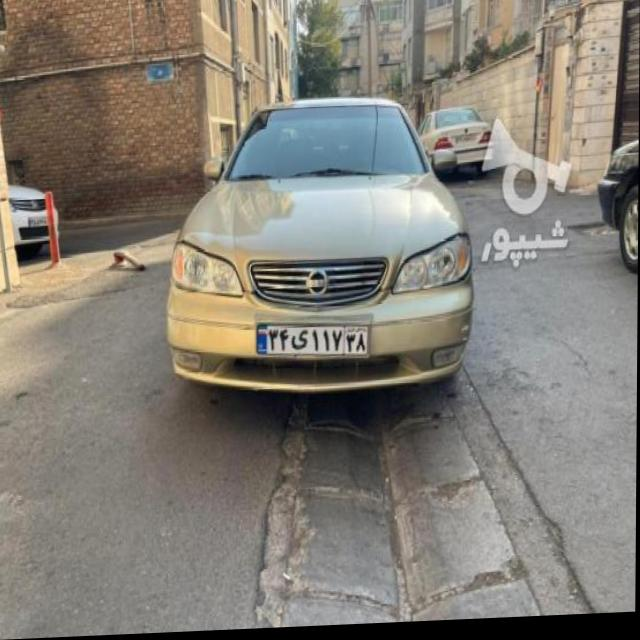licence: (248, 324, 368, 359), (454, 136, 477, 146)
